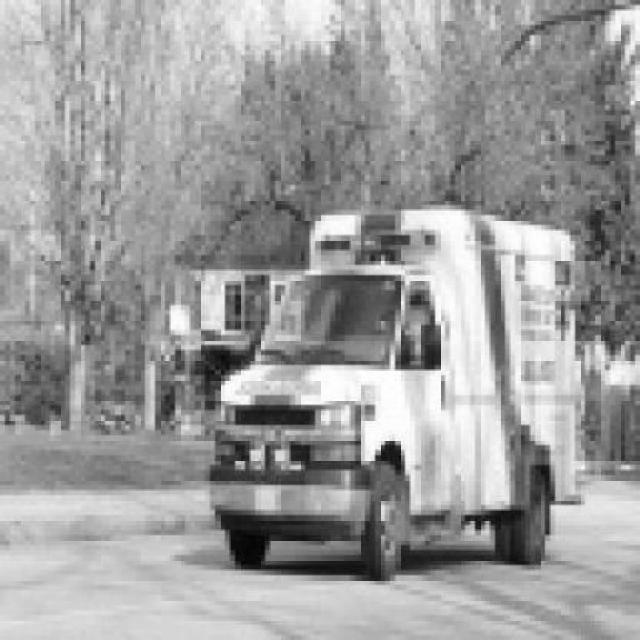Ambulance: (206, 208, 583, 584)
